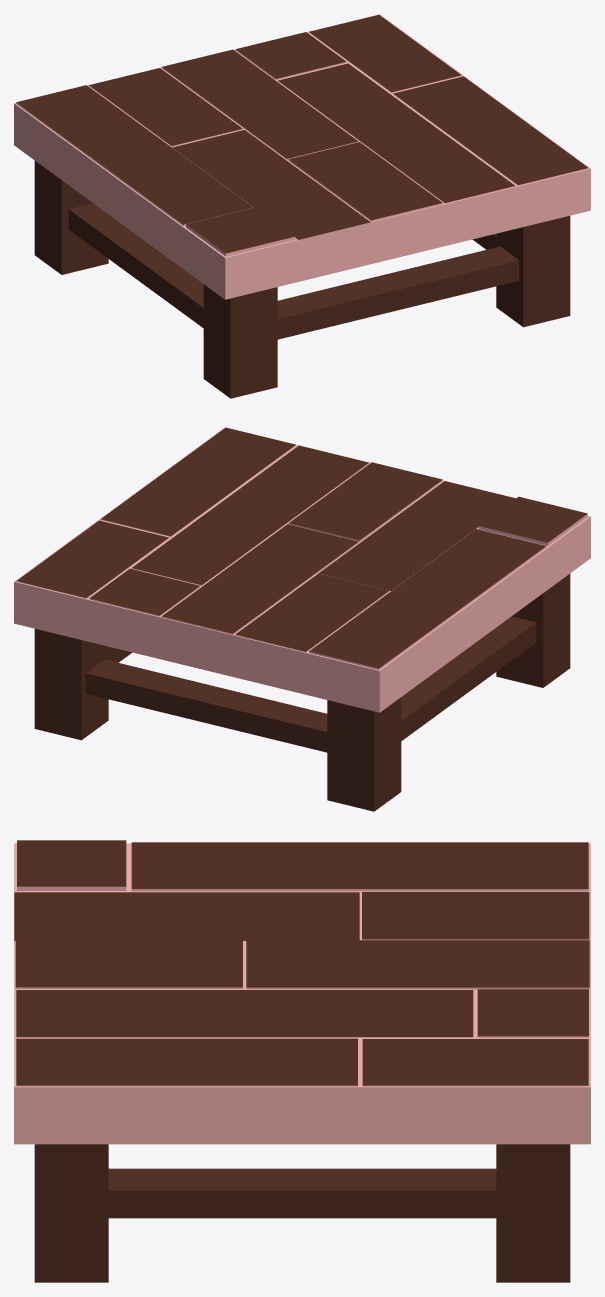
File: Bloc.fbx
The picture shows the model from 3 angles, top to bottom: view 1: azimuth 30°, elevation 25°; view 2: azimuth 150°, elevation 25°; view 3: azimuth 270°, elevation 25°; orthographic projection. The views are drawn at different scales.
Visible parts, largest first — view 1: Plane.125; view 2: Plane.125; view 3: Plane.125.
Part boxes in pixels (left/top/right/bottom): Plane.125: left=14, top=14, right=590, bottom=398; Plane.125: left=14, top=427, right=590, bottom=811; Plane.125: left=14, top=840, right=590, bottom=1282.
Size of the model in its own units: 190 by 75.79 by 190.
